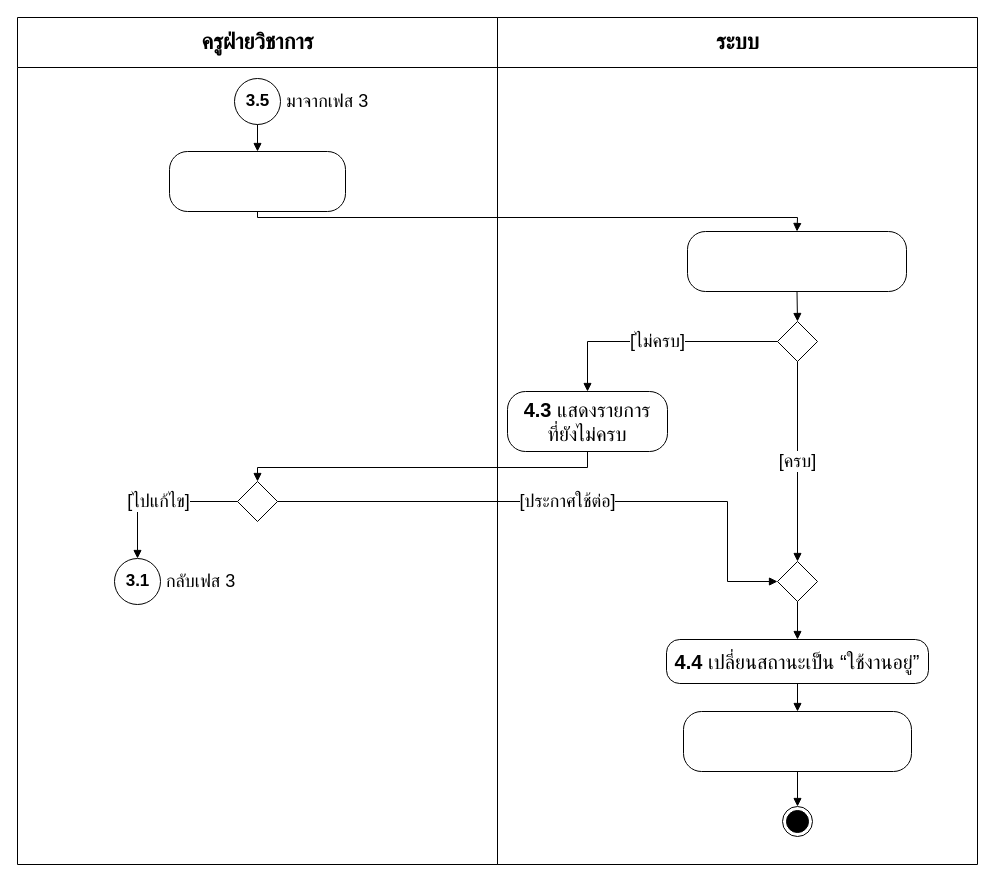
Image size: 995x882. Some labels were removed from this diagram. Each missing label, with the centre of its shape:
4.1 กด “ประกาศใช้” หลักสูตรที่เป็นฉบับร่าง: pixel 257 181
4.2 ตรวจว่าทุกแผนมีรายวิชา และทุกรายวิชามีครูผู้สอน: pixel 796 261
4.5 เปลี่ยนหลักสูตรเดิมของ ระดับเดียวกันเป็น “ปิดใช้งาน”: pixel 797 741
